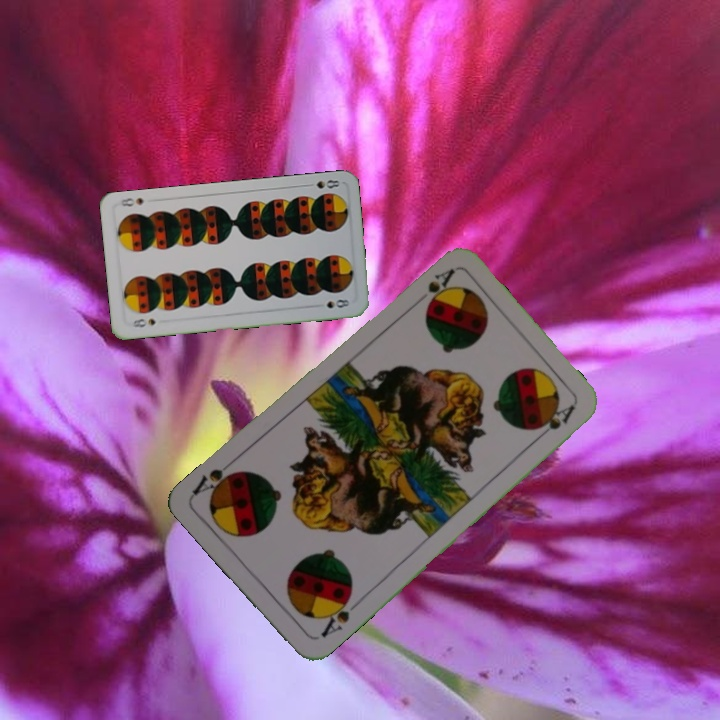S8: (302, 175, 342, 191), (128, 314, 158, 330)
SA: (317, 590, 362, 640), (420, 265, 458, 313)
